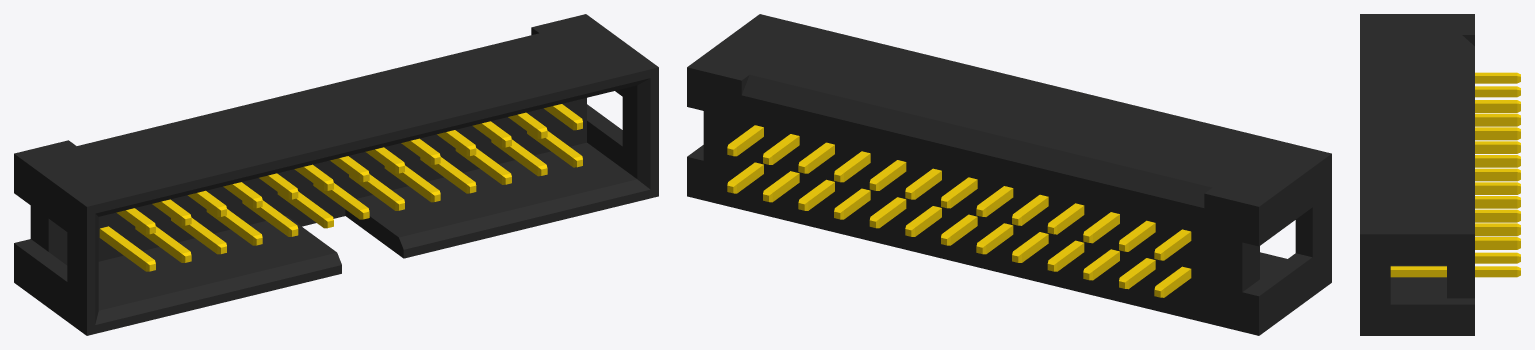
File: DS1013-26S (IDC-26MS CONNFLY).obj
3 renders of one model, left to right at view 1: azimuth 30°, elevation 25°; view 2: azimuth 150°, elevation 25°; view 3: azimuth 270°, elevation 25°, orthographic. The views are drawn at different scales.
Parts seen in each view (by area): view 1: DS1013-26S_(IDC-26MS_CONNFLY); view 2: DS1013-26S_(IDC-26MS_CONNFLY); view 3: DS1013-26S_(IDC-26MS_CONNFLY).
Part boxes in pixels (left/top/right/bottom): DS1013-26S_(IDC-26MS_CONNFLY): left=14, top=14, right=658, bottom=335; DS1013-26S_(IDC-26MS_CONNFLY): left=687, top=14, right=1331, bottom=335; DS1013-26S_(IDC-26MS_CONNFLY): left=1360, top=14, right=1520, bottom=335.
Size of the model in its own units: 0.0241 by 0.00526 by 0.00745.
